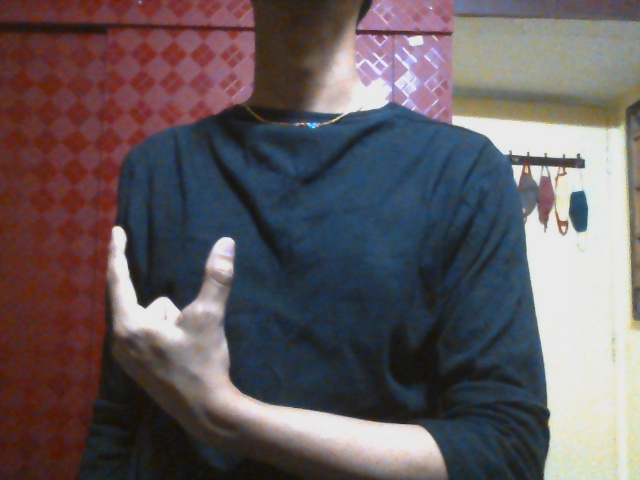U: (101, 226, 251, 392)
